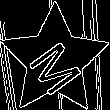M_NE: (22, 27, 87, 94)
